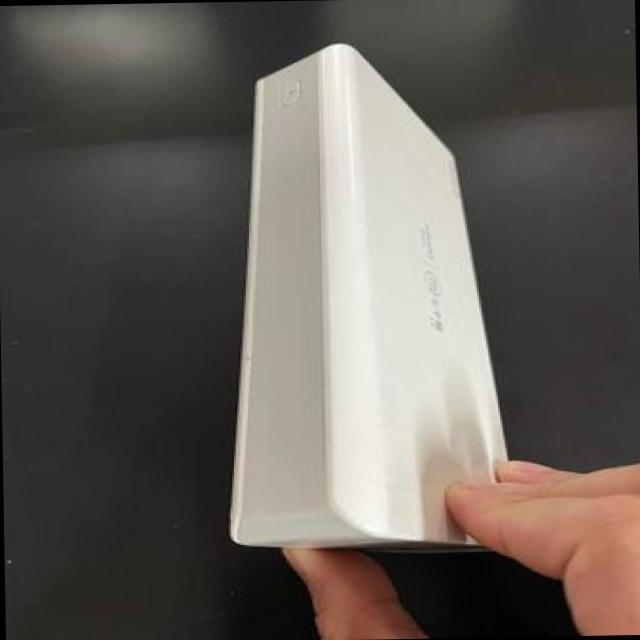portable-charger: (205, 35, 528, 564)
